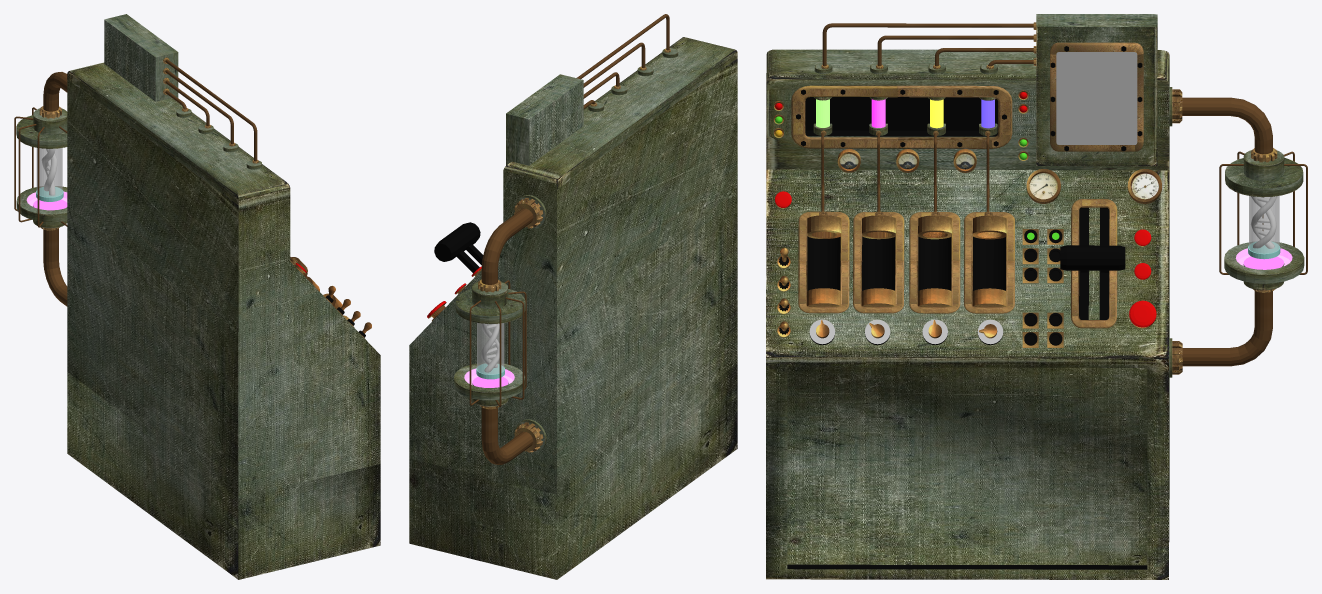
3 renders of one model, left to right at view 1: azimuth 30°, elevation 25°; view 2: azimuth 150°, elevation 25°; view 3: azimuth 270°, elevation 25°, orthographic. The views are drawn at different scales.
Parts seen in each view (by area): view 1: KORPUSE, DERJATELKOLBY, TELEK, TRUBKI(up), KOLBA, TRUBKI(kolba); view 2: KORPUSE, DERJATELKOLBY, TELEK, KOLBA, RY4AG, TRUBKI(kolba), TRUBKI(up); view 3: KORPUSE, TELEK, LOJEMENT, DERJATELKOLBY, RAMKALAMPO4KI, TRUBKI(up), KNOPKI(small), LAMPY, RAMKARY4AG, VIKLU4ATELY, CIFERBLAT(big), KOLBA (+6 smaller).
Boxes of the visible parts, x1,y1,x2,y2 form: KORPUSE: (67, 62, 380, 579); DERJATELKOLBY: (16, 72, 67, 306); TELEK: (104, 14, 178, 101); TRUBKI(up): (165, 59, 257, 161); KOLBA: (36, 148, 63, 201); TRUBKI(kolba): (14, 107, 67, 227); KORPUSE: (409, 37, 737, 579); DERJATELKOLBY: (454, 195, 546, 464); TELEK: (506, 74, 583, 165); KOLBA: (476, 323, 504, 379); RY4AG: (434, 222, 483, 272); TRUBKI(kolba): (469, 280, 526, 406); TRUBKI(up): (576, 14, 669, 109); KORPUSE: (766, 49, 1169, 579); TELEK: (1033, 14, 1157, 166); LOJEMENT: (798, 211, 1014, 313); DERJATELKOLBY: (1169, 87, 1304, 377); RAMKALAMPO4KI: (791, 85, 1012, 148); TRUBKI(up): (822, 23, 1033, 66); KNOPKI(small): (1022, 229, 1063, 347); LAMPY: (813, 97, 997, 135); RAMKARY4AG: (1071, 199, 1117, 328); VIKLU4ATELY: (809, 319, 1003, 345); CIFERBLAT(big): (1026, 169, 1161, 203); KOLBA: (1248, 196, 1280, 259).
Bounding box in the file's own units: 262 × 716 × 699.
